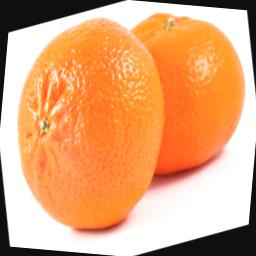Orange Ripe: (4, 12, 250, 252)
